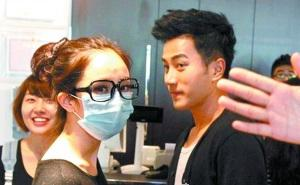NONE: (163, 49, 217, 108), (23, 94, 62, 133)
OK: (76, 74, 138, 136)
